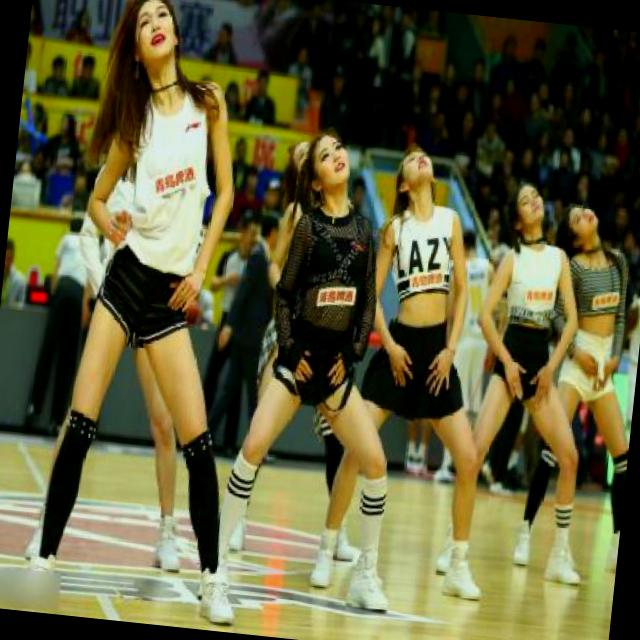Person: (46, 0, 250, 610), (235, 133, 388, 600), (352, 137, 494, 582), (462, 177, 581, 572)
